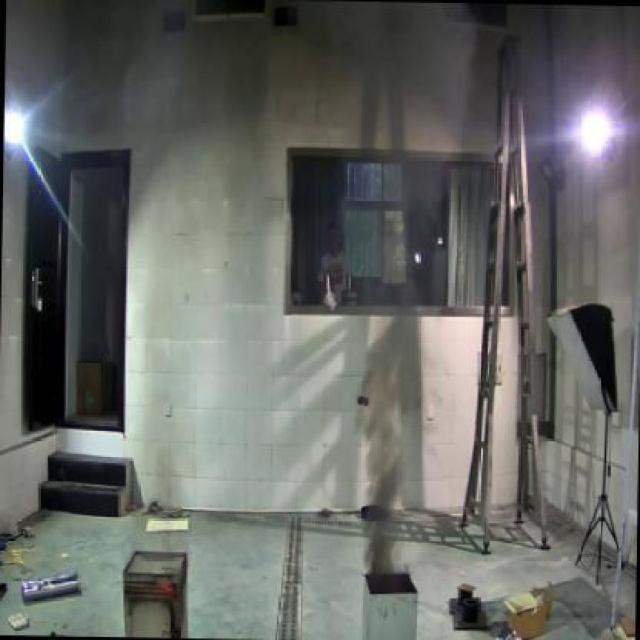fire: (363, 368, 412, 569)
